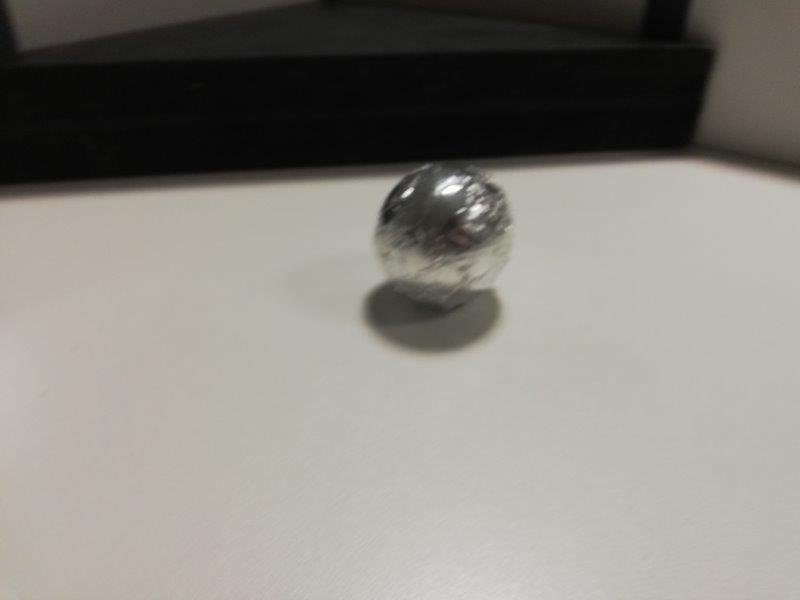bianca: (375, 162, 511, 309)
